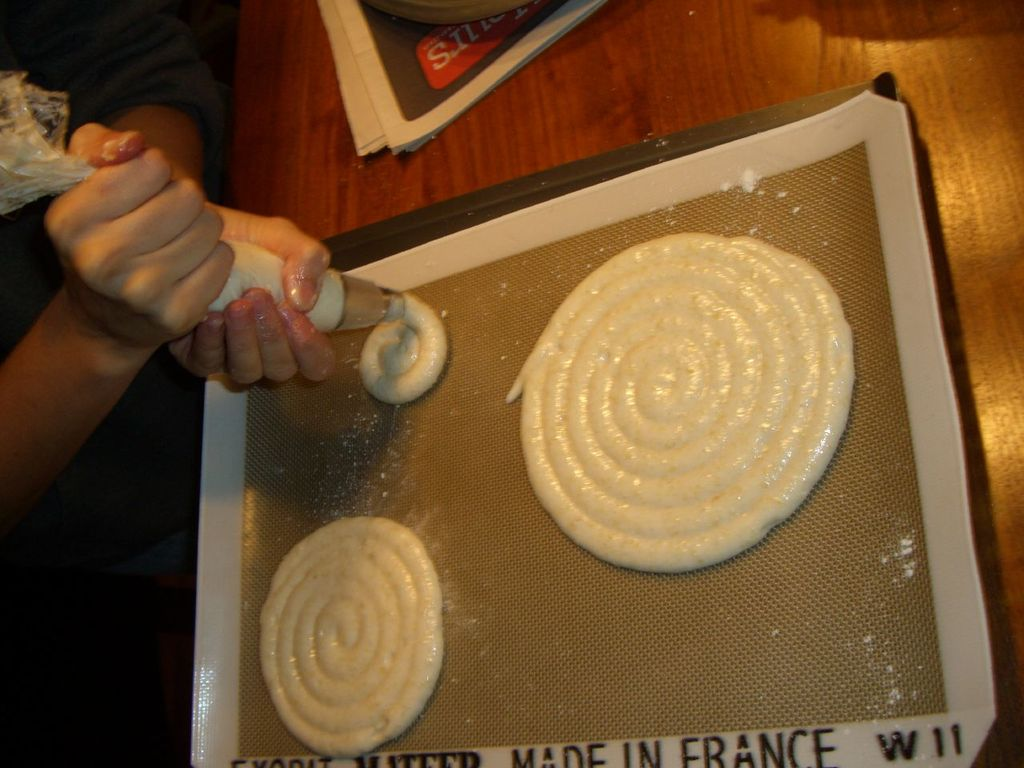Human_hand: (15, 144, 262, 334), (167, 198, 335, 386)
